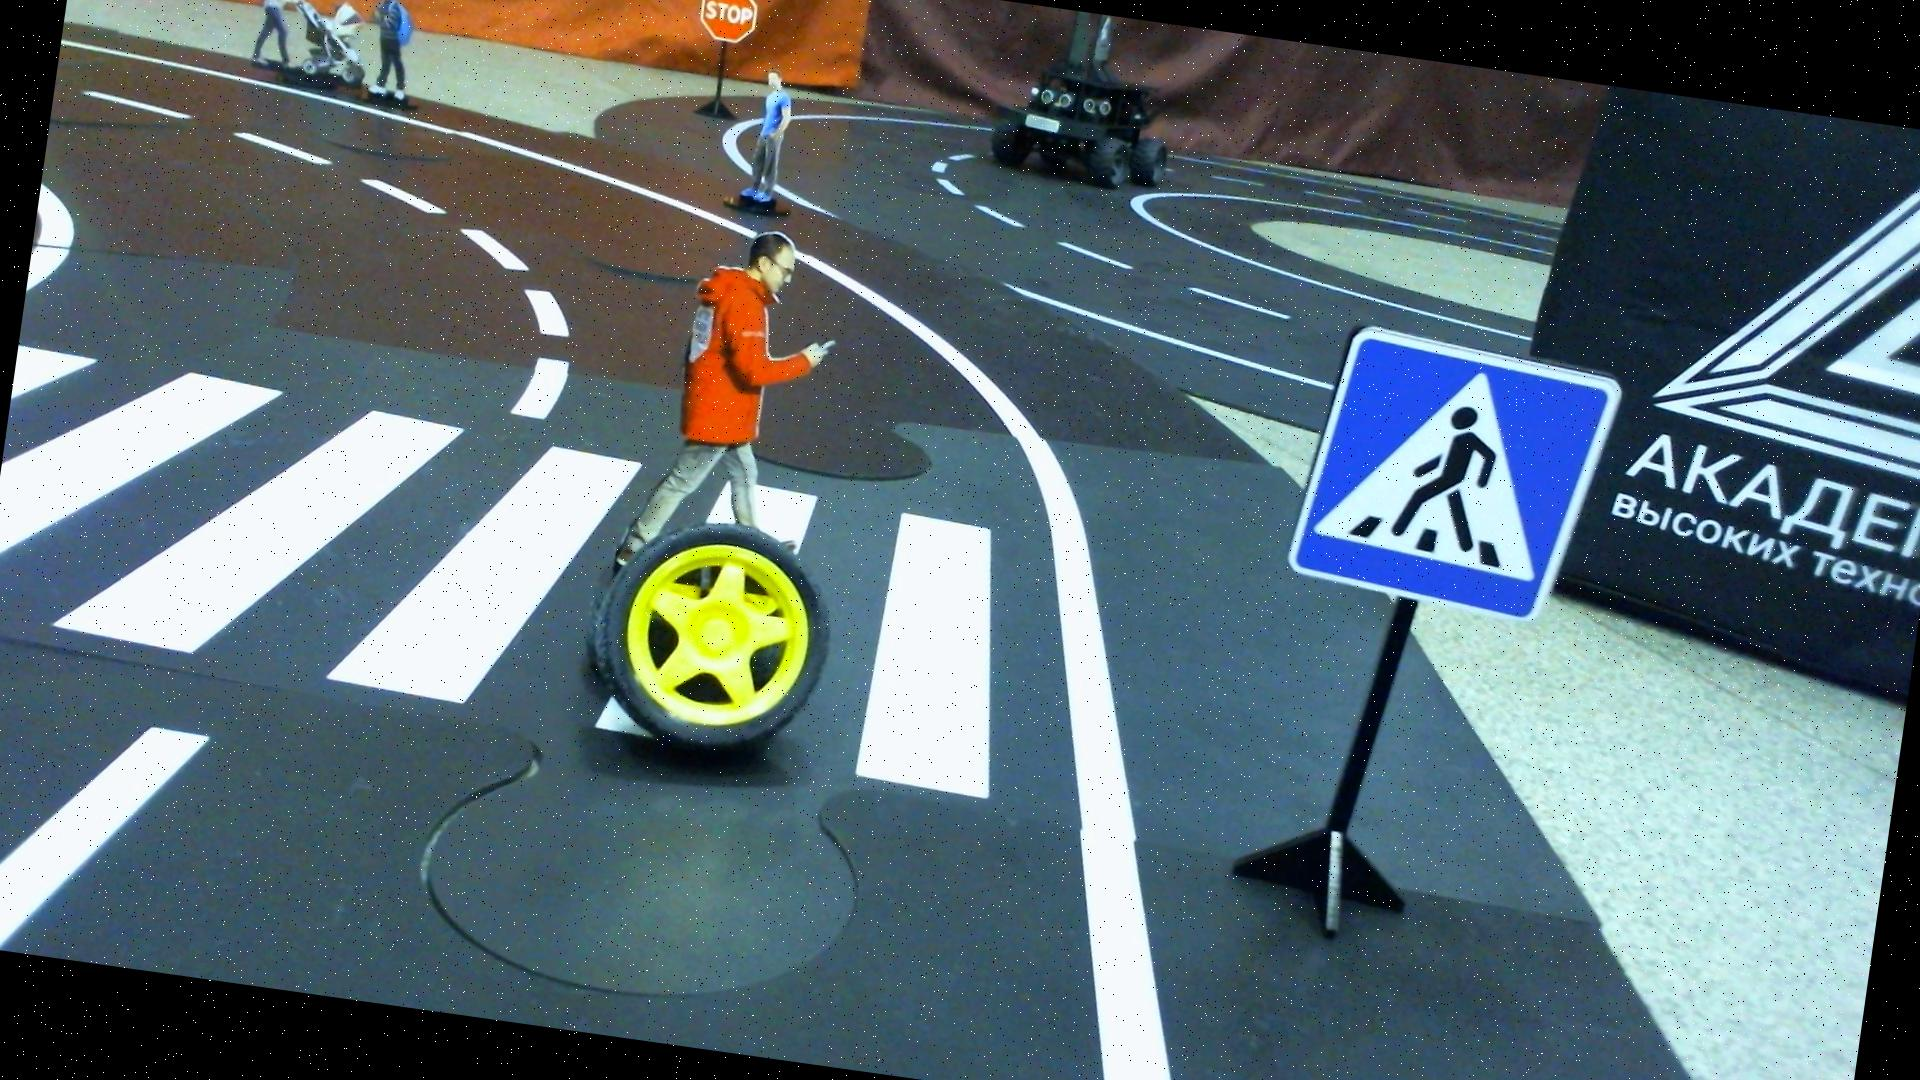barricade: (574, 510, 845, 782)
crossing: (0, 312, 1125, 825)
person: (622, 208, 848, 536), (239, 0, 377, 102), (732, 66, 800, 207), (362, 0, 420, 115)
